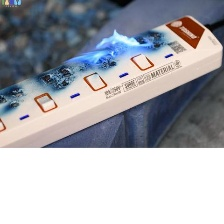three_eye_plug: (0, 12, 224, 158)
